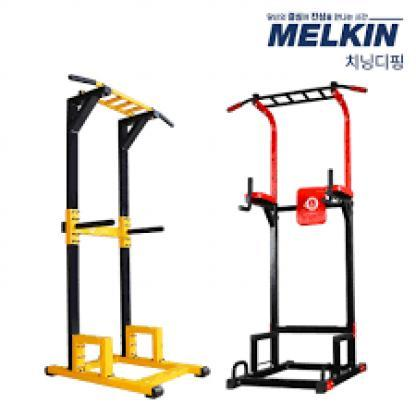chinning dipping: (43, 72, 212, 400), (226, 79, 369, 394)
